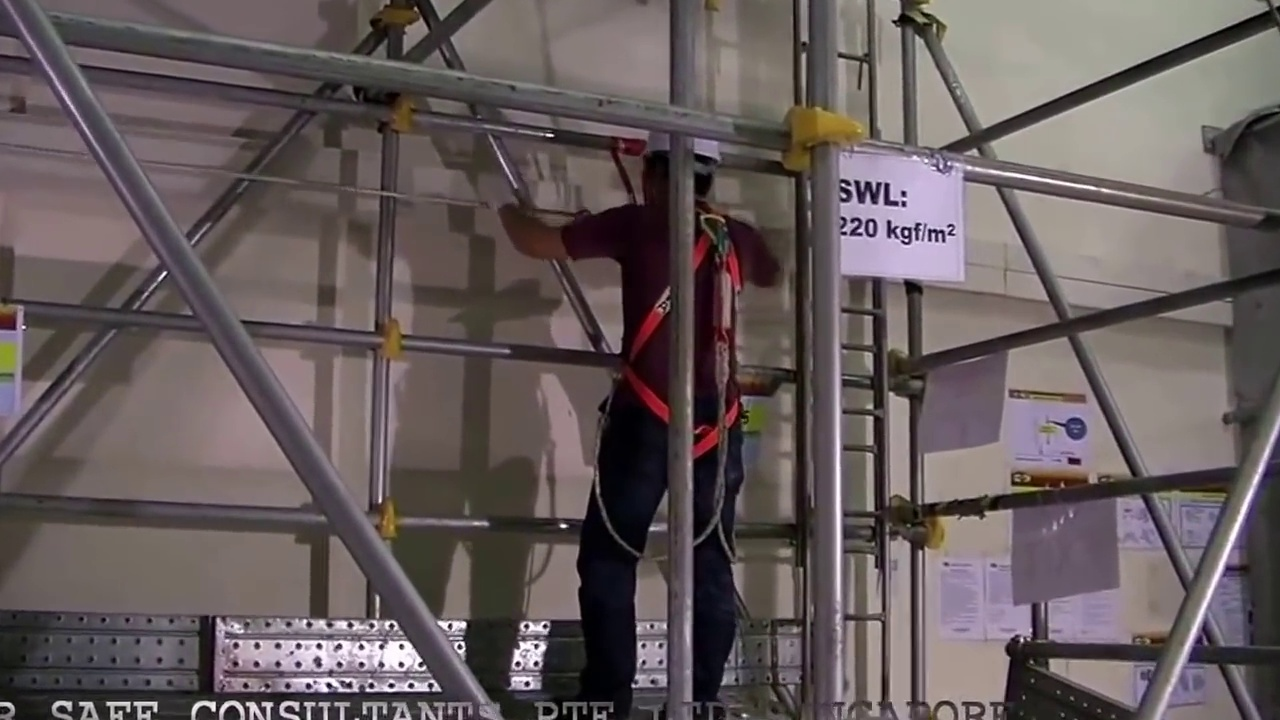harness: (628, 224, 739, 451)
helmet: (642, 122, 727, 160)
